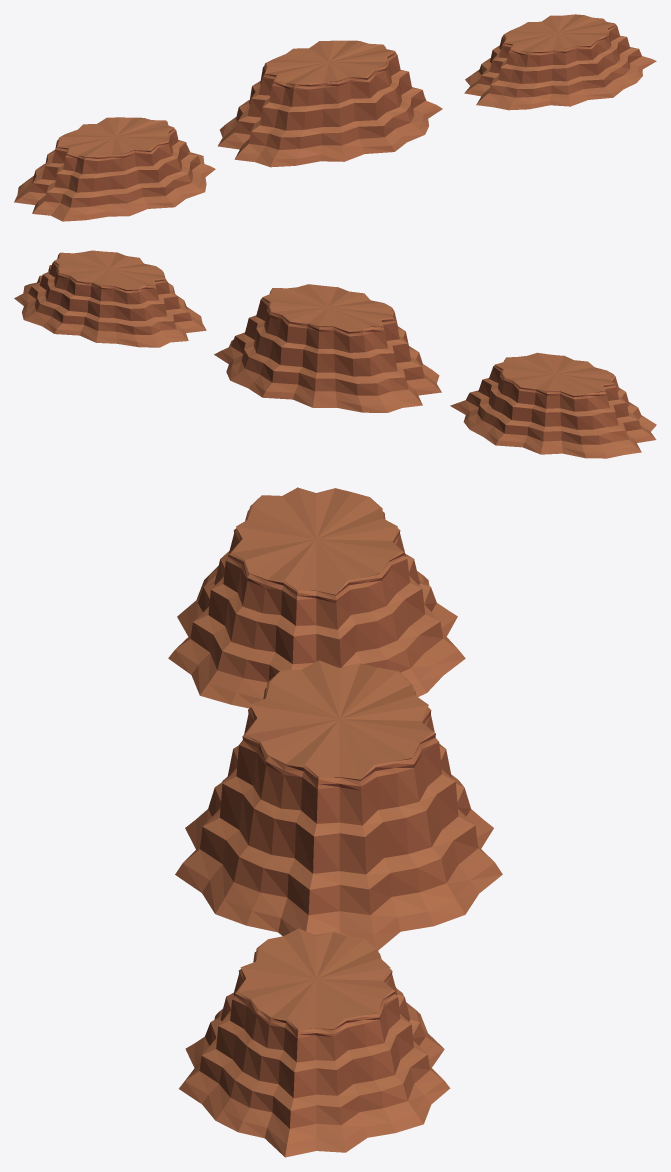
File: mesa-distant.glb
The picture shows the model from 3 angles, top to bottom: view 1: azimuth 30°, elevation 25°; view 2: azimuth 150°, elevation 25°; view 3: azimuth 270°, elevation 25°; orthographic projection. The views are drawn at different scales.
Visible parts, largest first — view 1: mesa_variant_2, mesa_variant_1, mesa_variant_3; view 2: mesa_variant_2, mesa_variant_1, mesa_variant_3; view 3: mesa_variant_2, mesa_variant_3, mesa_variant_1.
Boxes of the visible parts, bbox=[...] form: mesa_variant_2: bbox=[218, 40, 442, 167]; mesa_variant_1: bbox=[14, 117, 215, 221]; mesa_variant_3: bbox=[464, 14, 656, 110]; mesa_variant_2: bbox=[214, 284, 441, 412]; mesa_variant_1: bbox=[450, 352, 656, 458]; mesa_variant_3: bbox=[14, 250, 206, 347]; mesa_variant_2: bbox=[175, 660, 502, 950]; mesa_variant_3: bbox=[179, 928, 450, 1157]; mesa_variant_1: bbox=[168, 487, 465, 708].
Size of the model in its own units: 309 by 31.28 by 71.51.
